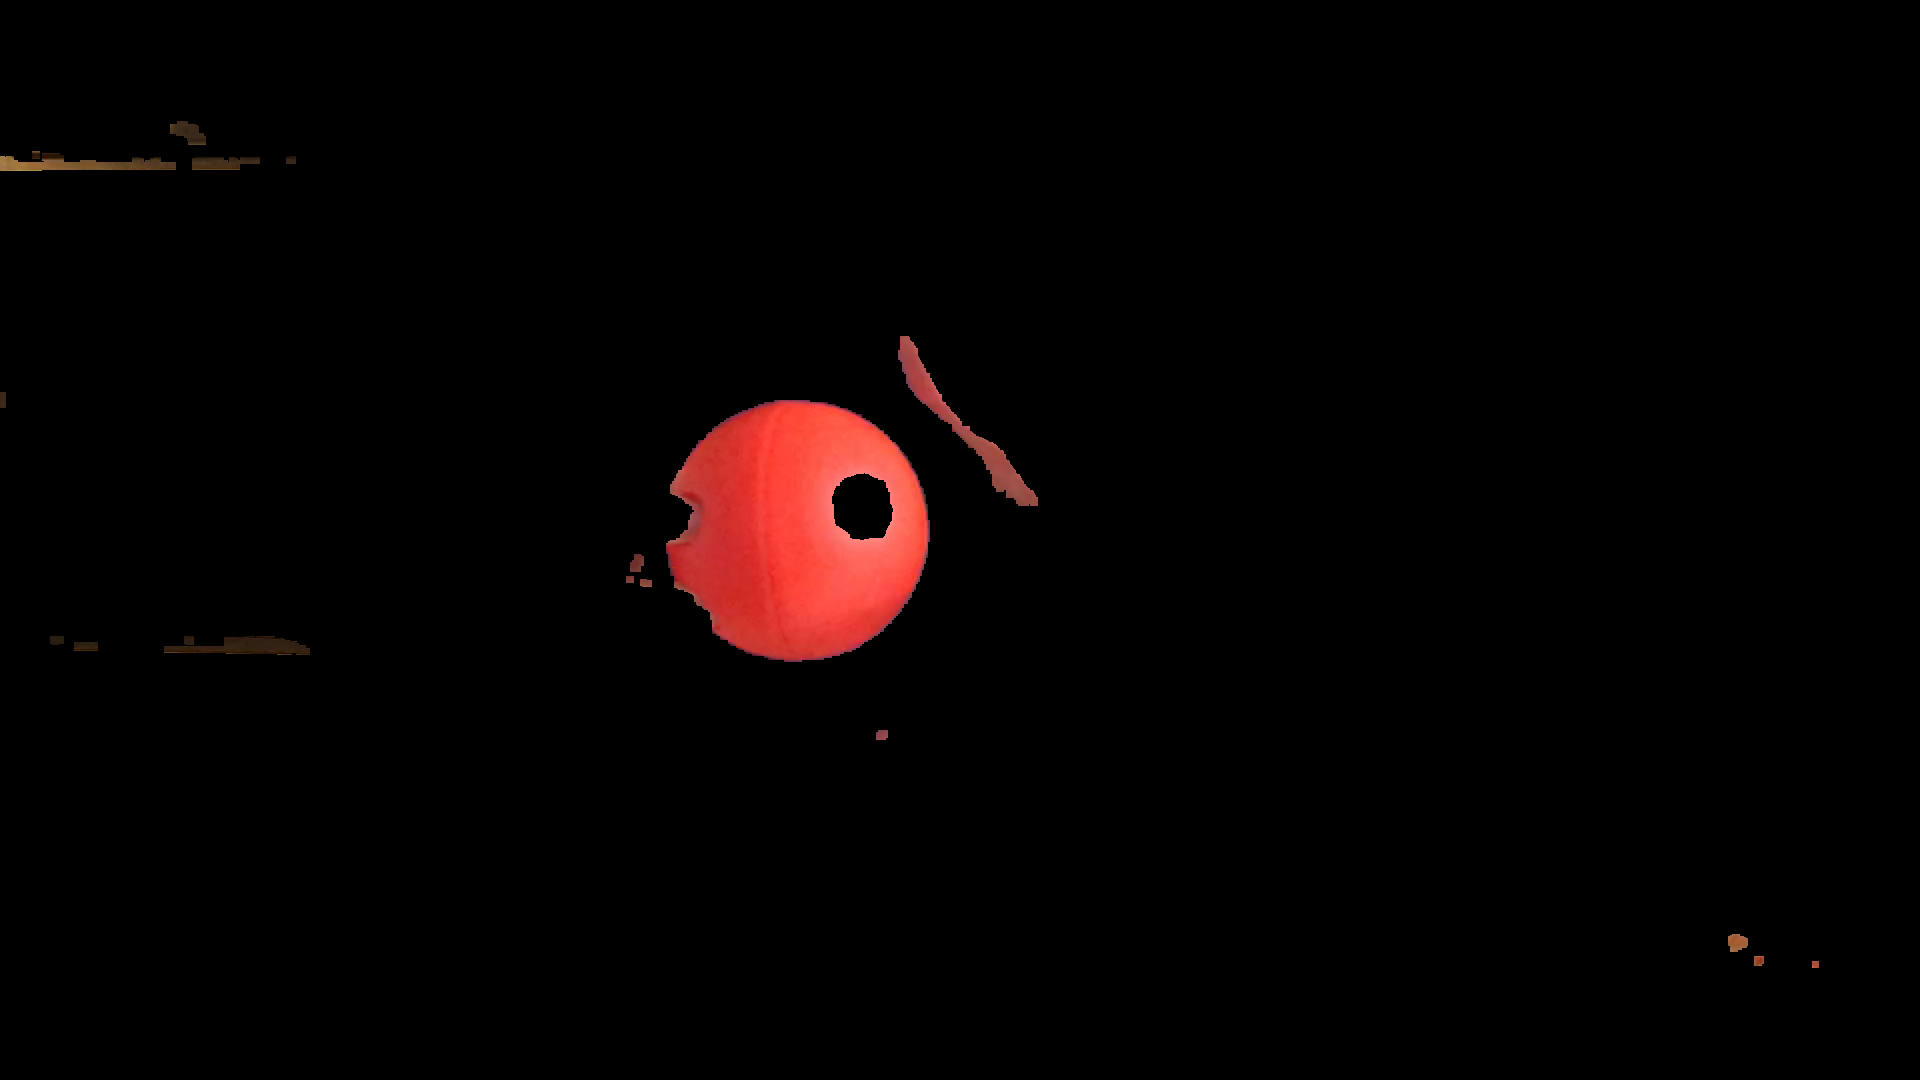Ball: (671, 400, 927, 662)
